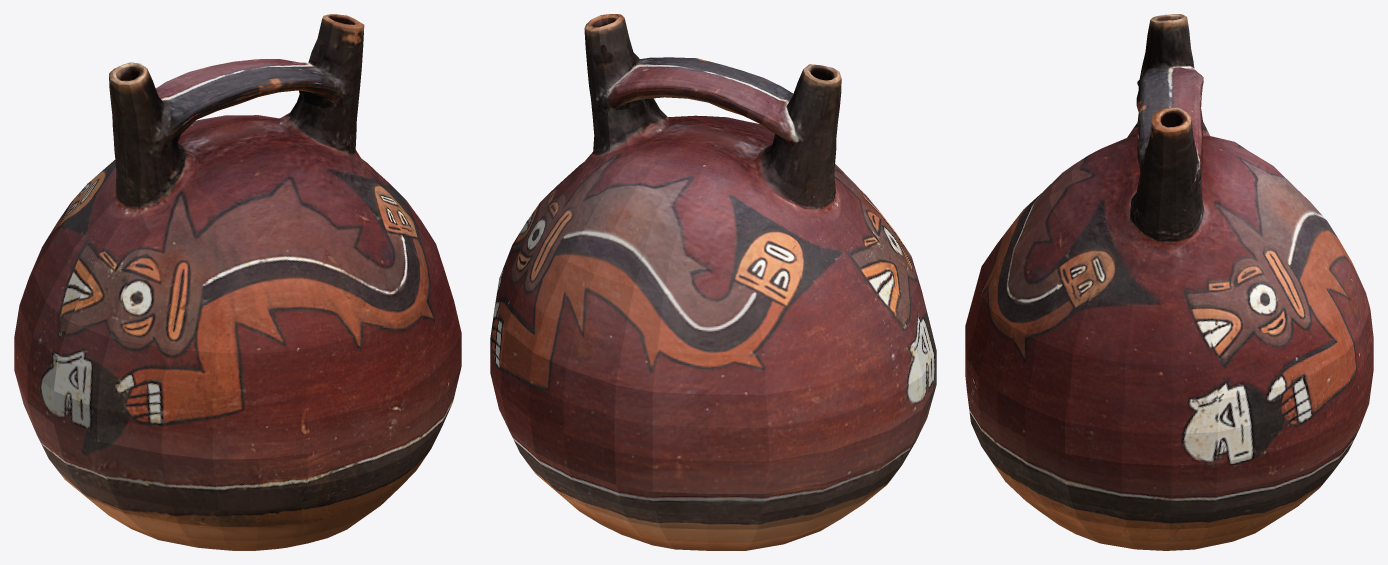
Rendered from objeto_01_nasca.glb.
3 renders of one model, left to right at view 1: azimuth 30°, elevation 25°; view 2: azimuth 150°, elevation 25°; view 3: azimuth 270°, elevation 25°, orthographic. The views are drawn at different scales.
Parts seen in each view (by area): view 1: Box001; view 2: Box001; view 3: Box001.
Boxes of the visible parts, x1=… form: Box001: x1=14, y1=14, x2=461, y2=550; Box001: x1=490, y1=14, x2=936, y2=550; Box001: x1=965, y1=14, x2=1373, y2=550.
Bounding box in the file's own units: 0.6802 × 0.7712 × 0.6442.
1 material, 1 textured.
